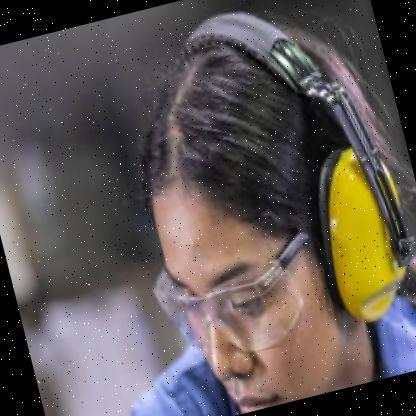oculos: (143, 214, 326, 372)
